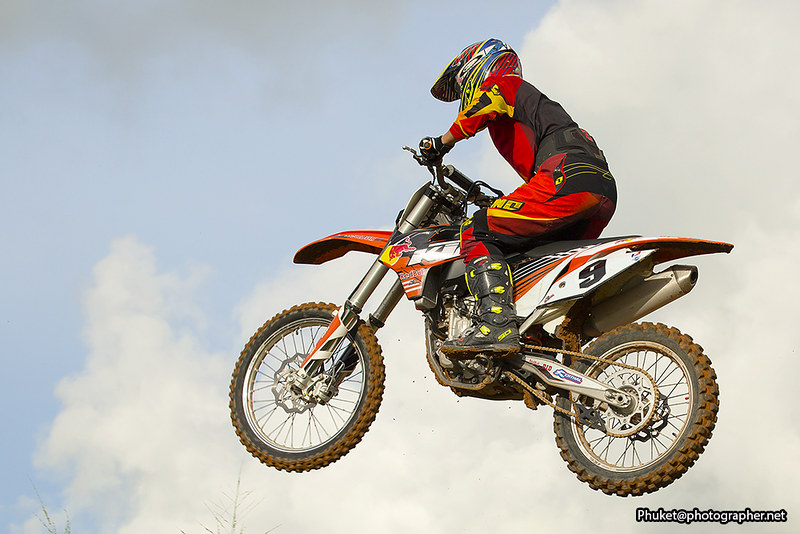helmet: (438, 32, 533, 116)
